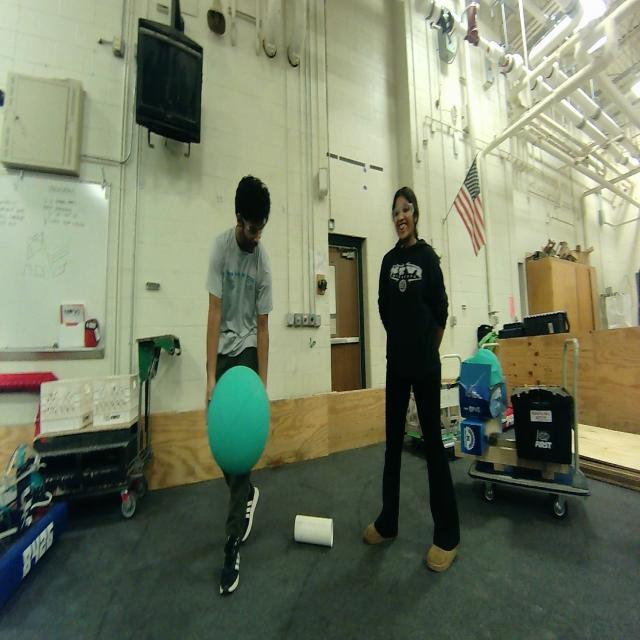algae: (207, 366, 272, 476)
coral: (292, 514, 334, 550)
